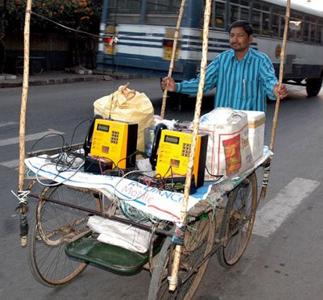person: (162, 21, 289, 231)
